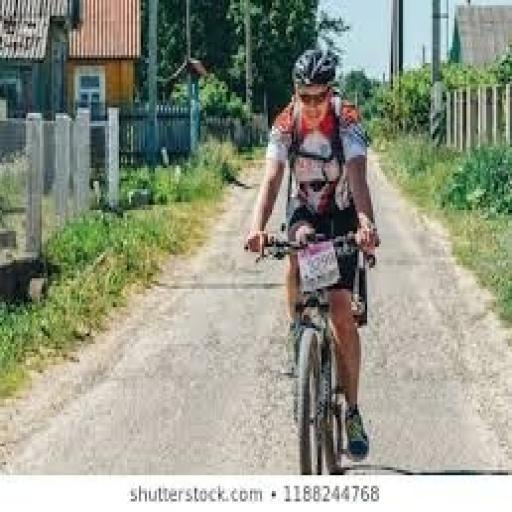cycling: (242, 45, 383, 462)
